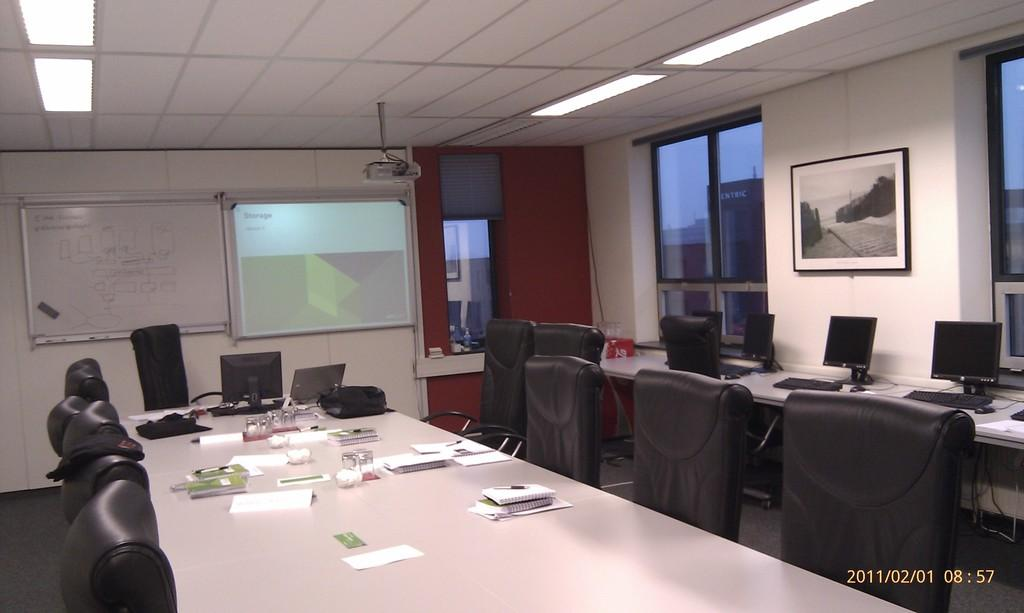Chair: (774, 392, 977, 612), (629, 364, 758, 543), (460, 326, 607, 460), (61, 478, 183, 612), (417, 321, 534, 443), (520, 359, 604, 488), (128, 315, 227, 410), (54, 449, 147, 521), (59, 393, 139, 466), (657, 318, 721, 372), (58, 351, 113, 404), (40, 389, 86, 452)
